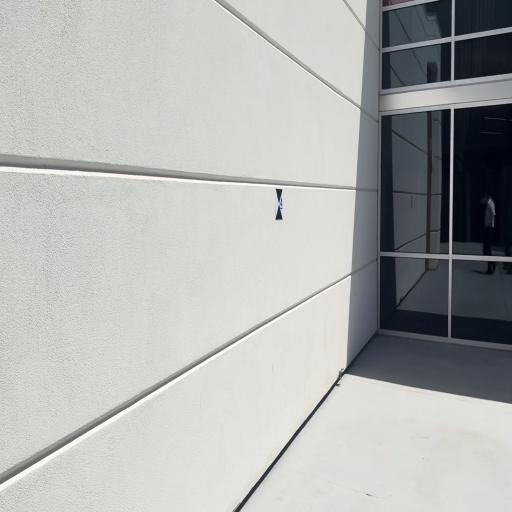target4: (276, 187, 284, 220)
